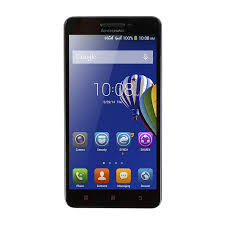lenovo: (61, 11, 164, 209)
